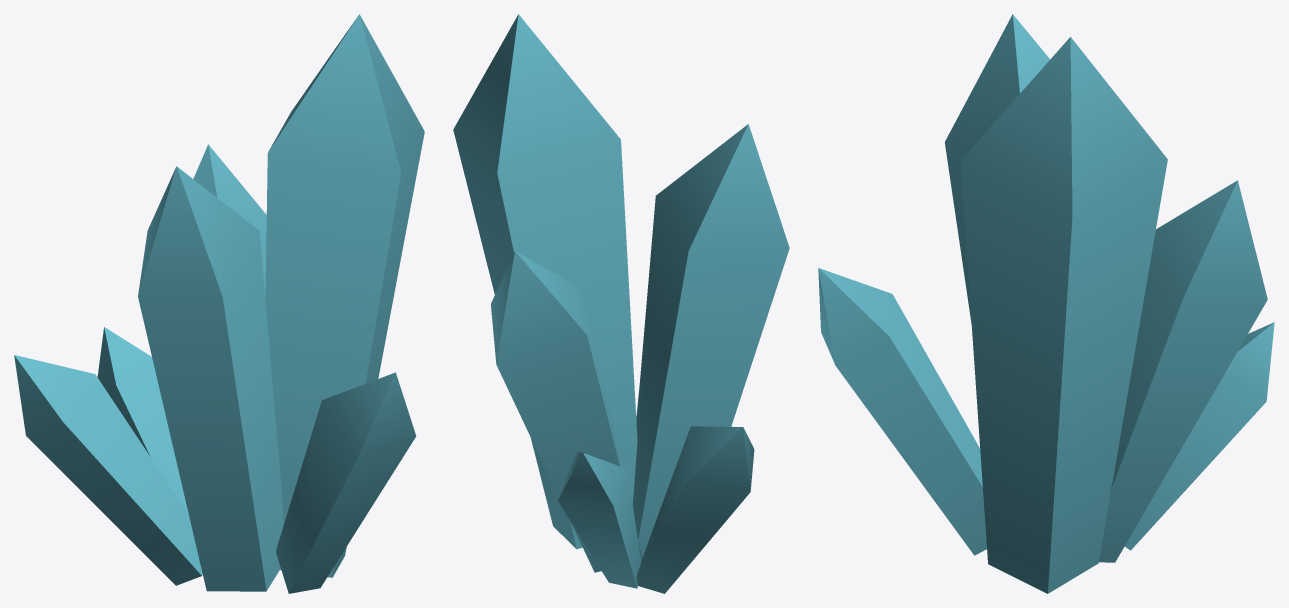
File: crystal_one.fbx
3 renders of one model, left to right at view 1: azimuth 30°, elevation 25°; view 2: azimuth 150°, elevation 25°; view 3: azimuth 270°, elevation 25°, orthographic. The views are drawn at different scales.
Visible parts, largest first — view 1: crystal_6, crystal_4, crystal_1, crystal_3, crystal_2, crystal_5; view 2: crystal_6, crystal_4, crystal_5, crystal_1, crystal_2; view 3: crystal_6, crystal_5, crystal_3, crystal_2, crystal_4.
Part boxes in pixels (bbox=[...]): crystal_6: bbox=[265, 14, 424, 577]; crystal_4: bbox=[138, 166, 283, 591]; crystal_1: bbox=[14, 355, 202, 585]; crystal_3: bbox=[276, 372, 416, 593]; crystal_2: bbox=[97, 327, 188, 513]; crystal_5: bbox=[193, 144, 266, 296]; crystal_6: bbox=[453, 14, 637, 549]; crystal_4: bbox=[632, 124, 789, 556]; crystal_5: bbox=[491, 251, 642, 572]; crystal_1: bbox=[636, 426, 754, 593]; crystal_2: bbox=[558, 452, 641, 588]; crystal_6: bbox=[960, 37, 1167, 593]; crystal_5: bbox=[1099, 180, 1267, 562]; crystal_3: bbox=[818, 268, 986, 555]; crystal_2: bbox=[1124, 322, 1274, 550]; crystal_4: bbox=[944, 14, 1049, 323].
Size of the model in its own units: 398 by 583 by 411.
